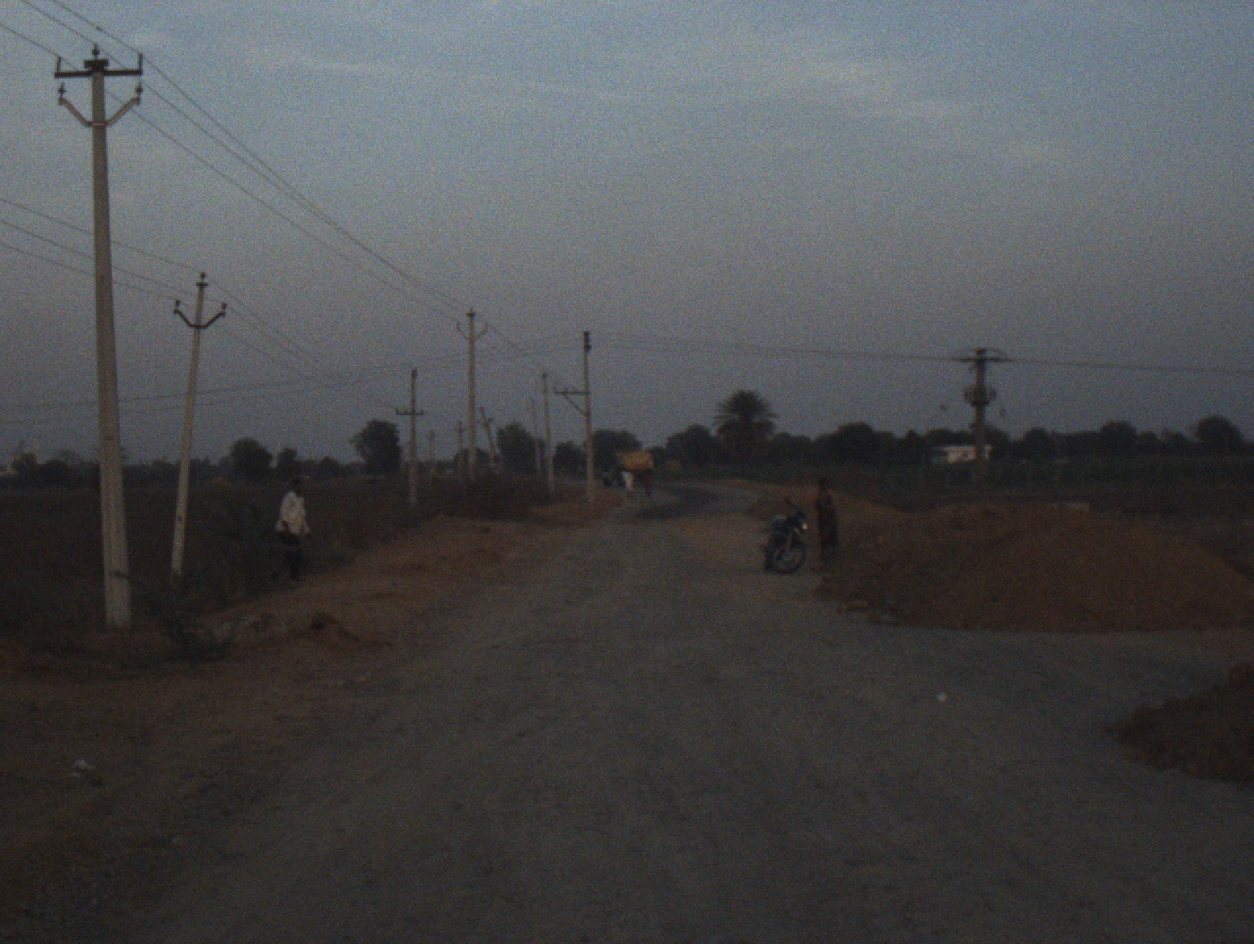motorcycle: (758, 490, 810, 580)
person: (277, 465, 316, 585), (808, 461, 844, 558), (617, 463, 635, 500), (639, 461, 654, 497)
truck: (594, 438, 654, 488)
